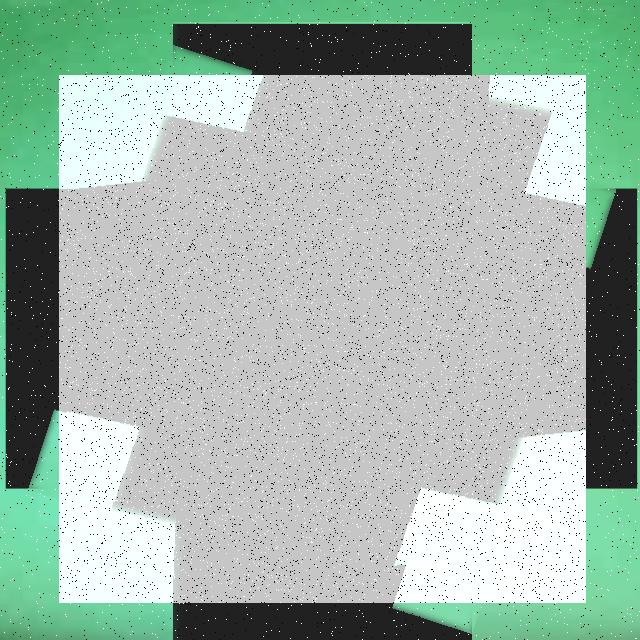lima puluh ribu rupiah: (59, 75, 586, 603)
